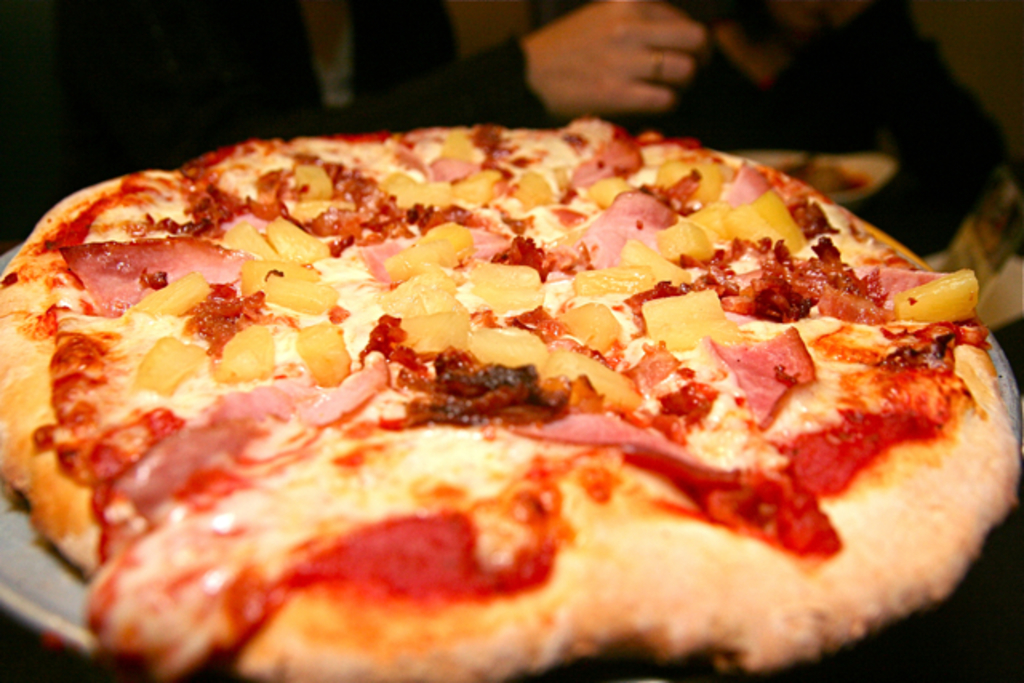Pizza: (0, 97, 1019, 683)
